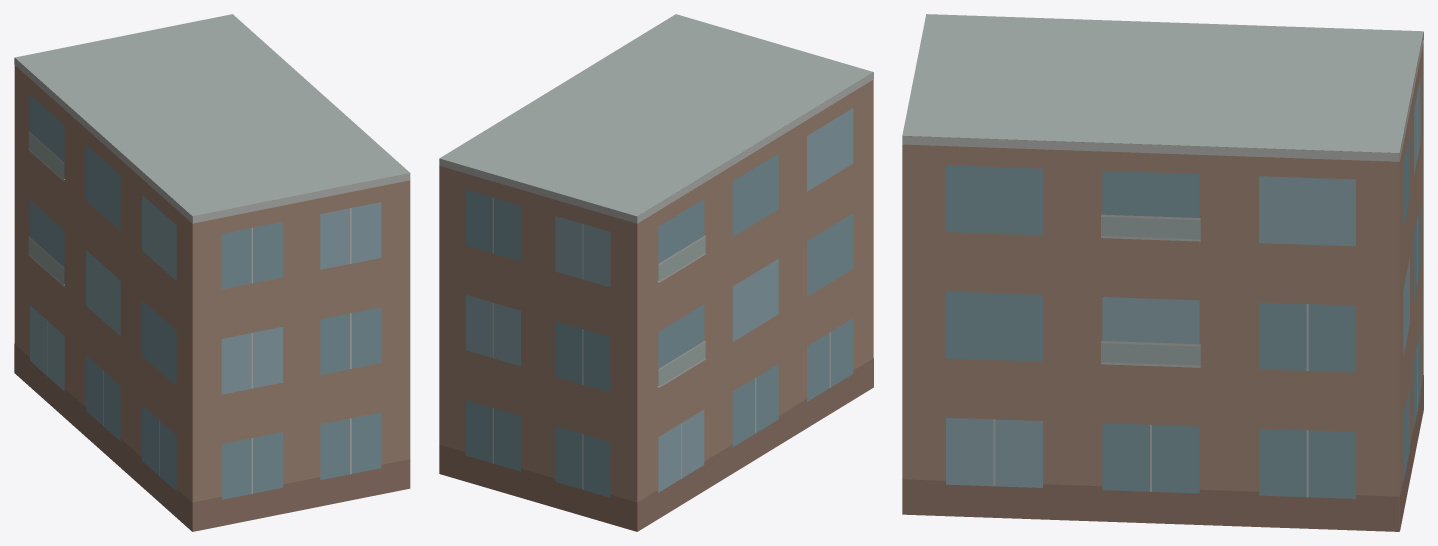
File: survey-upis-32638260.glb
3 renders of one model, left to right at view 1: azimuth 30°, elevation 25°; view 2: azimuth 150°, elevation 25°; view 3: azimuth 270°, elevation 25°, orthographic. The views are drawn at different scales.
Visible parts, largest first — view 1: survey-upis-32638260.tmp; view 2: survey-upis-32638260.tmp; view 3: survey-upis-32638260.tmp.
Part boxes in pixels (bbox=[...]): survey-upis-32638260.tmp: bbox=[14, 14, 410, 531]; survey-upis-32638260.tmp: bbox=[439, 14, 873, 531]; survey-upis-32638260.tmp: bbox=[902, 14, 1423, 531].
Bounding box in the file's own units: 8.32 × 10.55 × 13.17.
